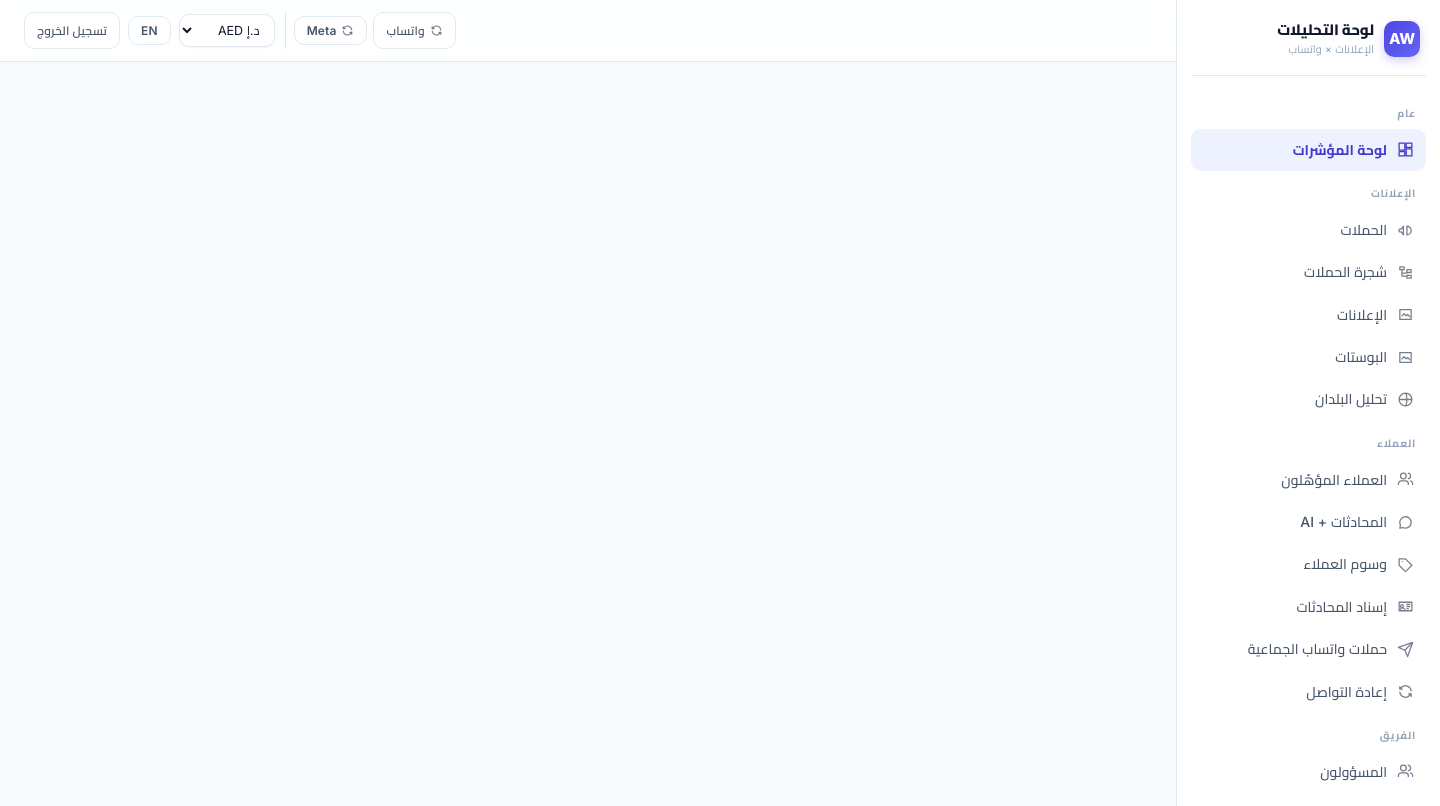
Test: bilingual shell › switches the whole nav to English and flips the switcher label
The width and height of the screenshot is (1440, 806).
Click the button "EN" at (149, 30), box [128,16,171,45]
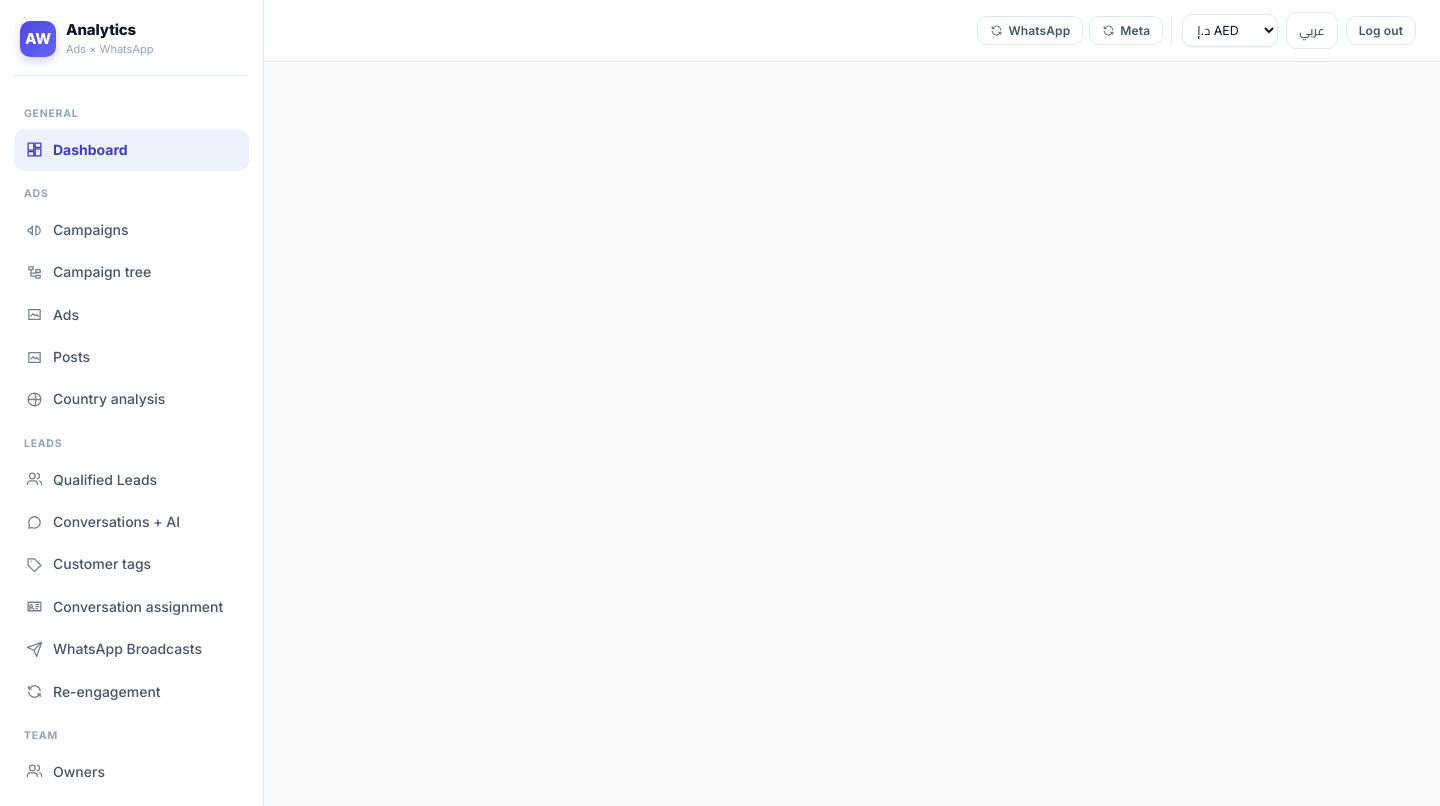
Expected: the link "Dashboard" is shown, [14,129,249,171]
Expected: the button "عربي" is shown, [1286,12,1338,49]
